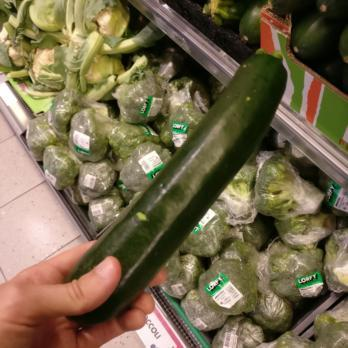Cucumber: (60, 51, 290, 327)
